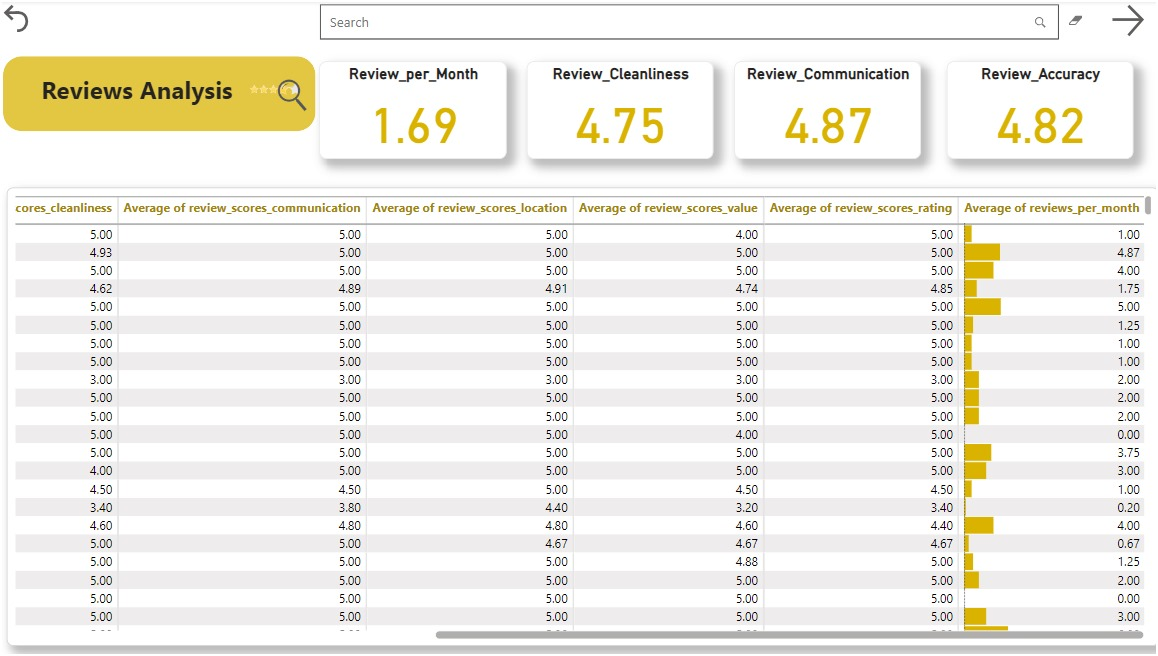

What the dashboard file says about the page in this screenshot:
{"tool":"powerbi","page":{"name":"Review","canvas":[1280,720],"ordinal":2},"visuals":[{"type":"tableEx","fields":{"Values":["Hotel Aggregator dataset.host_name","Avg(Hotel Aggregator dataset.review_scores_accuracy)","Avg(Hotel Aggregator dataset.review_scores_checkin)","Avg(Hotel Aggregator dataset.review_scores_cleanliness)","Avg(Hotel Aggregator dataset.review_scores_communication)","Avg(Hotel Aggregator dataset.review_scores_location)","Avg(Hotel Aggregator dataset.review_scores_value)","Avg(Hotel Aggregator dataset.review_scores_rating)","Avg(Hotel Aggregator dataset.reviews_per_month)"]},"box":[9.3,206.4,1264.8,502.8],"z":0},{"type":"card","title":"Review_Accuracy","fields":{"Values":["Avg(Hotel Aggregator dataset.review_scores_accuracy)"]},"box":[1041.3,66.7,204.9,107.1],"z":1000},{"type":"card","title":"Review_Communication","fields":{"Values":["Avg(Hotel Aggregator dataset.review_scores_communication)"]},"box":[808.5,66.7,204.9,107.1],"z":2000},{"type":"card","title":"Review_Cleanliness","fields":{"Values":["Avg(Hotel Aggregator dataset.review_scores_value)"]},"box":[580.4,66.7,204.9,107.1],"z":3000},{"type":"card","title":"Review_per_Month","fields":{"Values":["Avg(Hotel Aggregator dataset.reviews_per_month)"]},"box":[352.7,67.2,205.8,107],"z":4000},{"type":"textFilter25A4896A83E0487089E2B90C9AE57C8A","fields":{"field":["Hotel Aggregator dataset.host_location.1"]},"box":[348.5,0,859,67.2],"z":5000},{"type":"shape","box":[5.5,61.7,343.1,82.3],"z":6000},{"type":"textbox","box":[42.5,75.5,244.3,64.5],"z":7000},{"type":"actionButton","box":[0,0,100,40],"z":8000},{"type":"actionButton","box":[1217.2,0,61.7,45.3],"z":9000},{"type":"image","box":[262.1,61.7,90.6,87.8],"z":10000}]}

Visuals, with their boxes on the page's 1280x720 design canvas (x1, y1, x2, y2). These are canvas units, not pixel positions in the 1158x656 screenshot, which may show the page scaled, cropped or inside an application window:
tableEx - Hotel Aggregator dataset.host_name x Avg(Hotel Aggregator dataset.review_scores_accuracy): bbox(9, 206, 1274, 709)
"Review_Accuracy" card: bbox(1041, 67, 1246, 174)
"Review_Communication" card: bbox(808, 67, 1013, 174)
"Review_Cleanliness" card: bbox(580, 67, 785, 174)
"Review_per_Month" card: bbox(353, 67, 558, 174)
textFilter25A4896A83E0487089E2B90C9AE57C8A - Hotel Aggregator dataset.host_location.1: bbox(348, 0, 1208, 67)
shape: bbox(6, 62, 349, 144)
textbox: bbox(42, 76, 287, 140)
actionButton: bbox(0, 0, 100, 40)
actionButton: bbox(1217, 0, 1279, 45)
image: bbox(262, 62, 353, 150)
